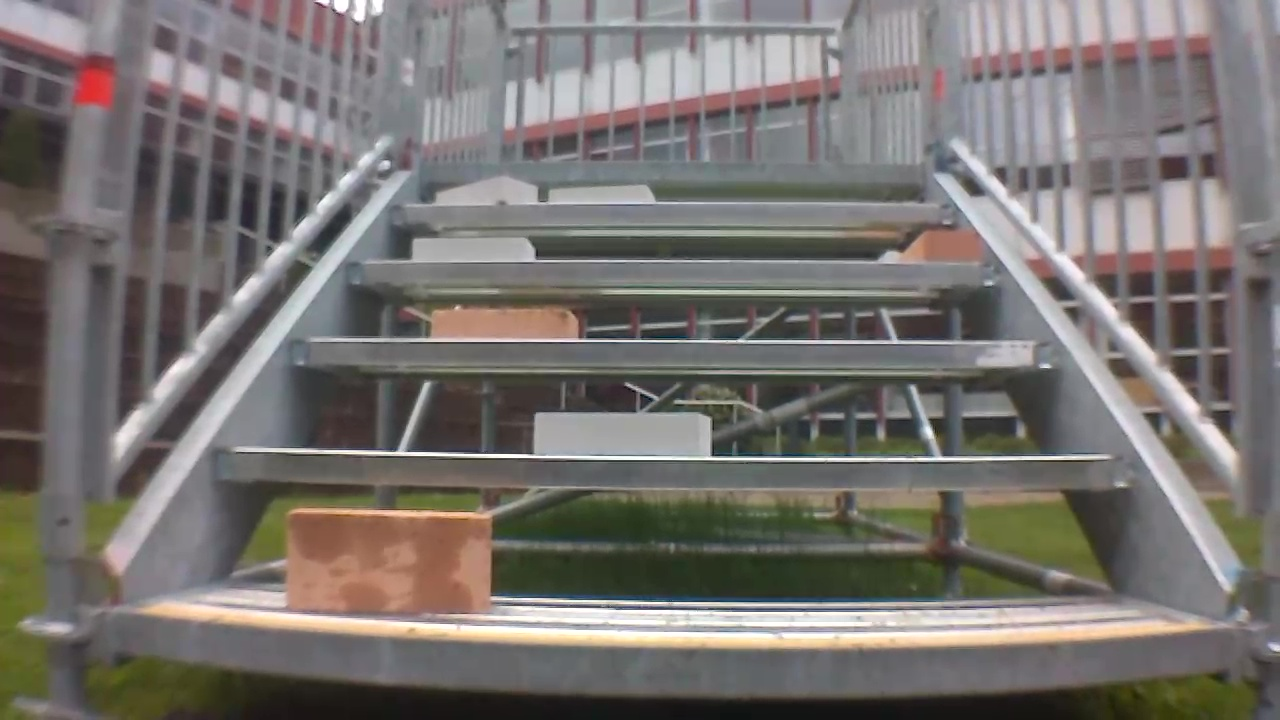brick: (286, 509, 490, 615), (535, 412, 710, 458), (430, 308, 576, 339), (414, 237, 533, 262), (435, 177, 537, 203), (902, 232, 980, 262), (550, 184, 652, 202)
edge: (115, 612, 1231, 696), (212, 455, 1129, 487), (291, 340, 1056, 367), (346, 261, 1002, 286), (390, 205, 955, 223), (422, 164, 926, 183)
stairs: (21, 3, 1279, 719)
steps: (105, 159, 1238, 704)
